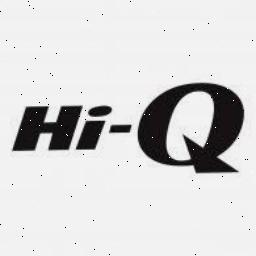q: (132, 74, 250, 180)
